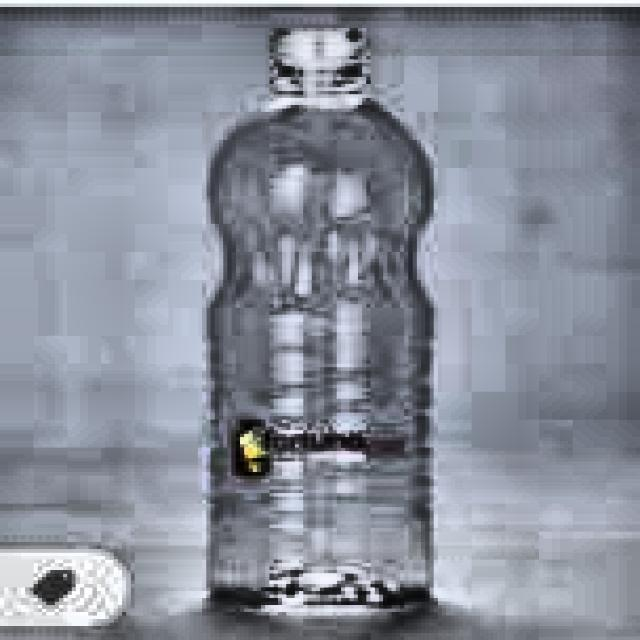plastic bottle: (211, 31, 434, 609)
